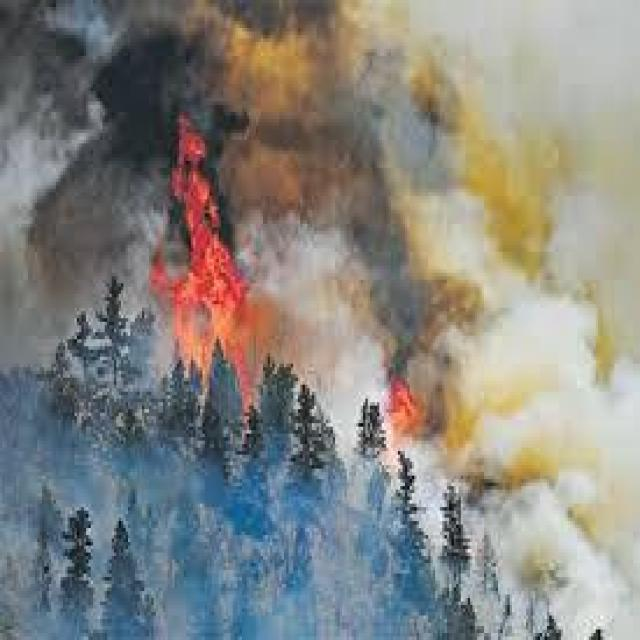Fire: (150, 102, 258, 396), (384, 359, 428, 445)
Smoke: (437, 196, 640, 638), (342, 10, 640, 196), (4, 2, 145, 377), (257, 212, 380, 447), (242, 17, 334, 144)
